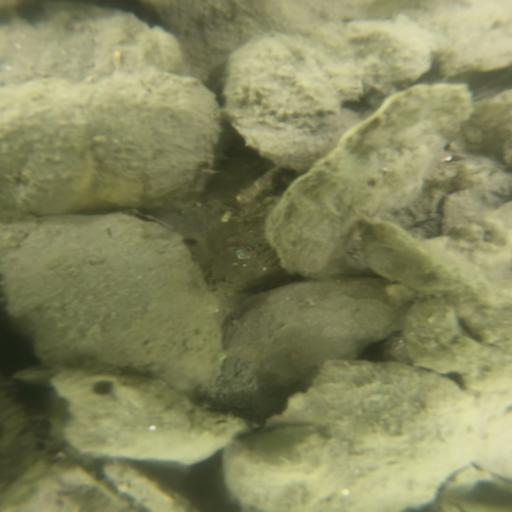Oyster-Closed: (1, 214, 230, 396), (263, 88, 482, 275), (213, 370, 498, 510), (1, 64, 218, 218), (210, 269, 407, 411), (220, 17, 441, 118), (1, 1, 181, 91), (110, 459, 209, 512)
